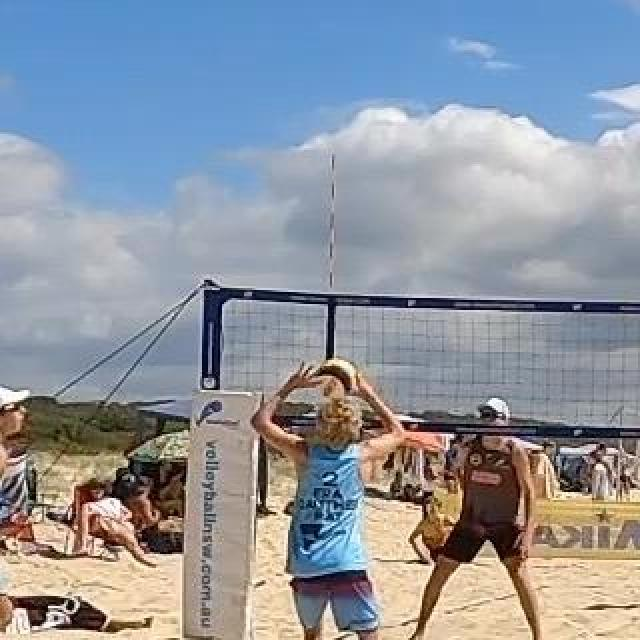volleyball: (314, 358, 358, 398)
